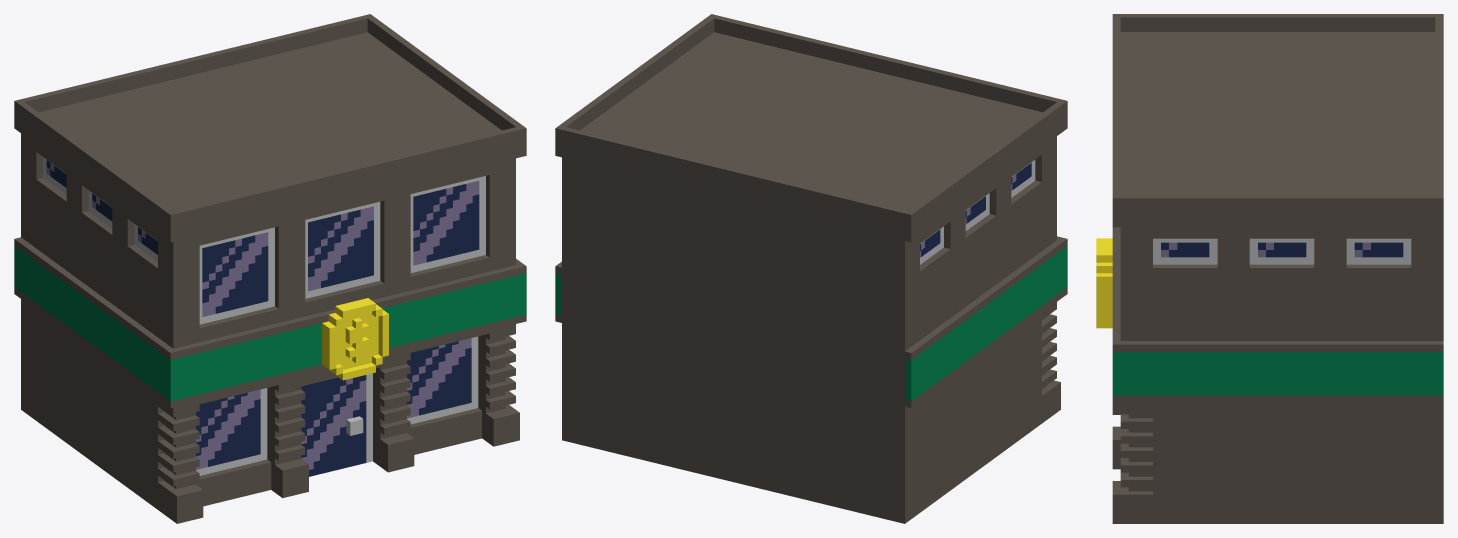
File: bank_a.obj
3 views of the same model, side by side, from view 1: azimuth 30°, elevation 25°; view 2: azimuth 150°, elevation 25°; view 3: azimuth 270°, elevation 25° (orthographic). The views are drawn at different scales.
Bounding box in the file's own units: 5.4 × 4.5 × 4.3.
1 material, 1 textured.
